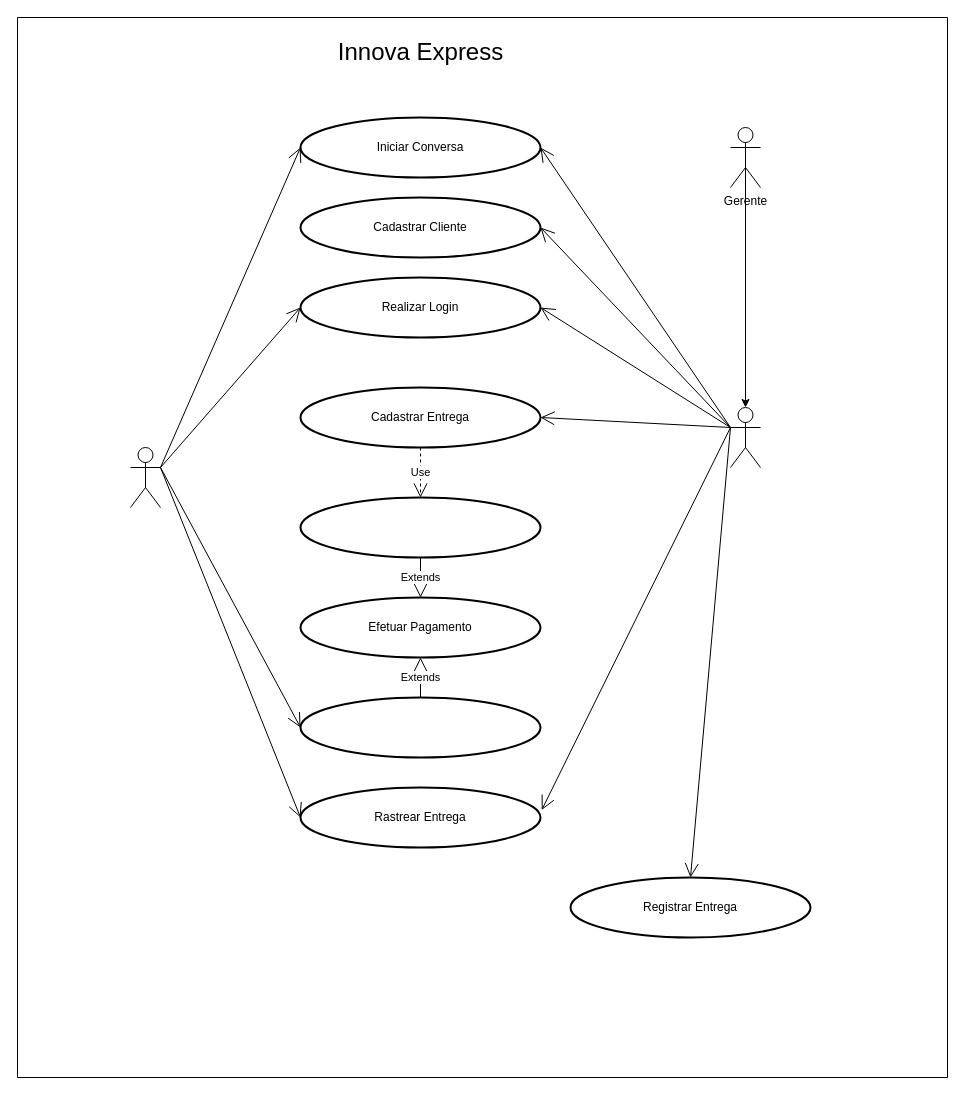
This 965x1095 diagram has some shape labels left out. Here are the shapes that lost their labels. From the top down, the box of each, then its label:
(730, 406, 760, 468): Funcionário
(130, 446, 160, 508): Cliente
(299, 496, 541, 558): Gerar Fatura
(299, 696, 541, 758): Visualizar Pedido
